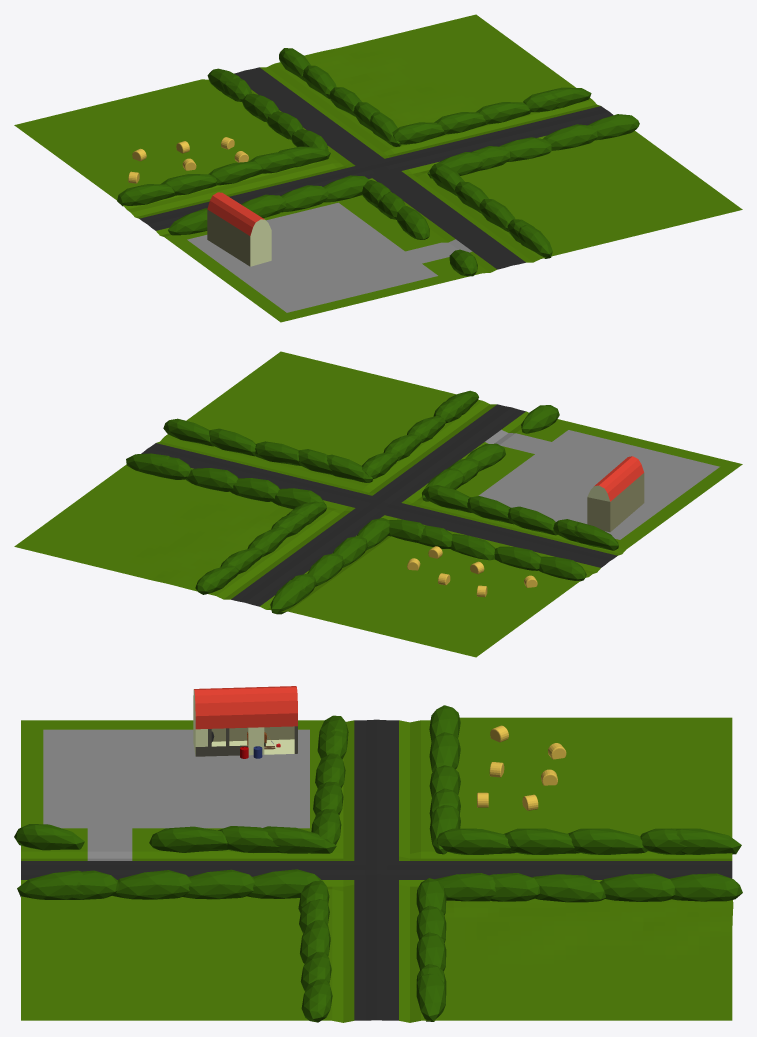
Rendered from M_038.crossroads.fbx.
3 views of the same model, one above another, from view 1: azimuth 30°, elevation 25°; view 2: azimuth 150°, elevation 25°; view 3: azimuth 270°, elevation 25° (orthographic). The views are drawn at different scales.
Parts seen in each view (by area): view 1: Plane, Bush.003, Bush.001, Bush, Bush.002, Barn; view 2: Plane, Bush.001, Bush, Bush.003, Bush.002, Barn; view 3: Plane, Bush, Bush.003, Bush.001, Bush.002, Barn.
Boxes of the visible parts, bbox=[...] form: Plane: bbox=[14, 14, 742, 322]; Bush.003: bbox=[427, 114, 639, 258]; Bush.001: bbox=[117, 68, 330, 206]; Bush: bbox=[279, 48, 591, 146]; Bush.002: bbox=[168, 175, 477, 276]; Barn: bbox=[207, 192, 271, 266]; Plane: bbox=[14, 351, 742, 657]; Bush.001: bbox=[270, 518, 586, 614]; Bush: bbox=[126, 453, 326, 594]; Bush.003: bbox=[163, 390, 478, 482]; Bush.002: bbox=[422, 405, 618, 550]; Barn: bbox=[587, 456, 644, 532]; Plane: bbox=[21, 717, 733, 1022]; Bush: bbox=[416, 873, 742, 1021]; Bush.003: bbox=[17, 869, 332, 1022]; Bush.001: bbox=[429, 705, 741, 854]; Bush.002: bbox=[14, 715, 348, 853]; Barn: bbox=[193, 686, 297, 756].
Size of the model in its own units: 10203 by 1026 by 10251.
